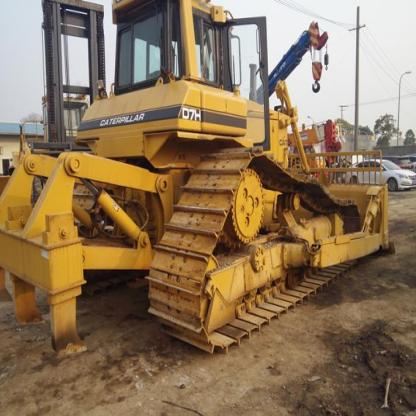bull_dozer/loader/grader: (4, 1, 396, 360)
